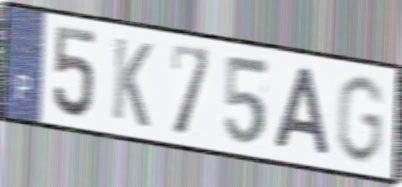5: (52, 24, 99, 121), (221, 56, 271, 147)
7: (170, 41, 211, 140)
A: (271, 64, 333, 160)
G: (333, 72, 388, 167)
K: (109, 34, 155, 132)
